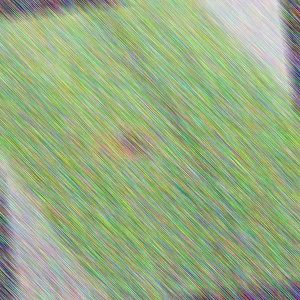Bacterial_Leaf_Blight: (102, 116, 165, 167), (155, 268, 182, 287)
